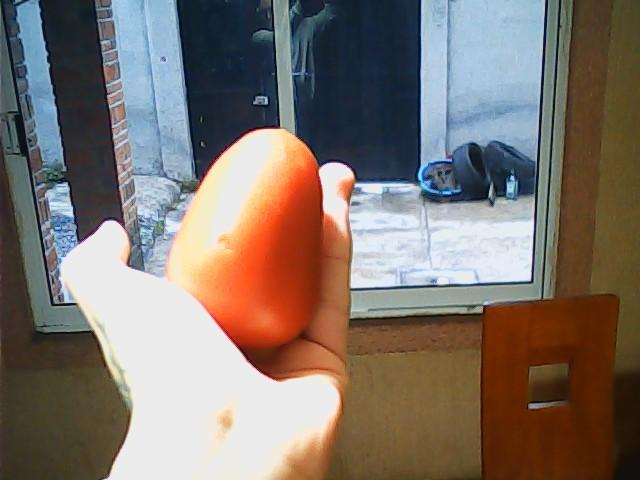verde: (166, 127, 324, 348)
